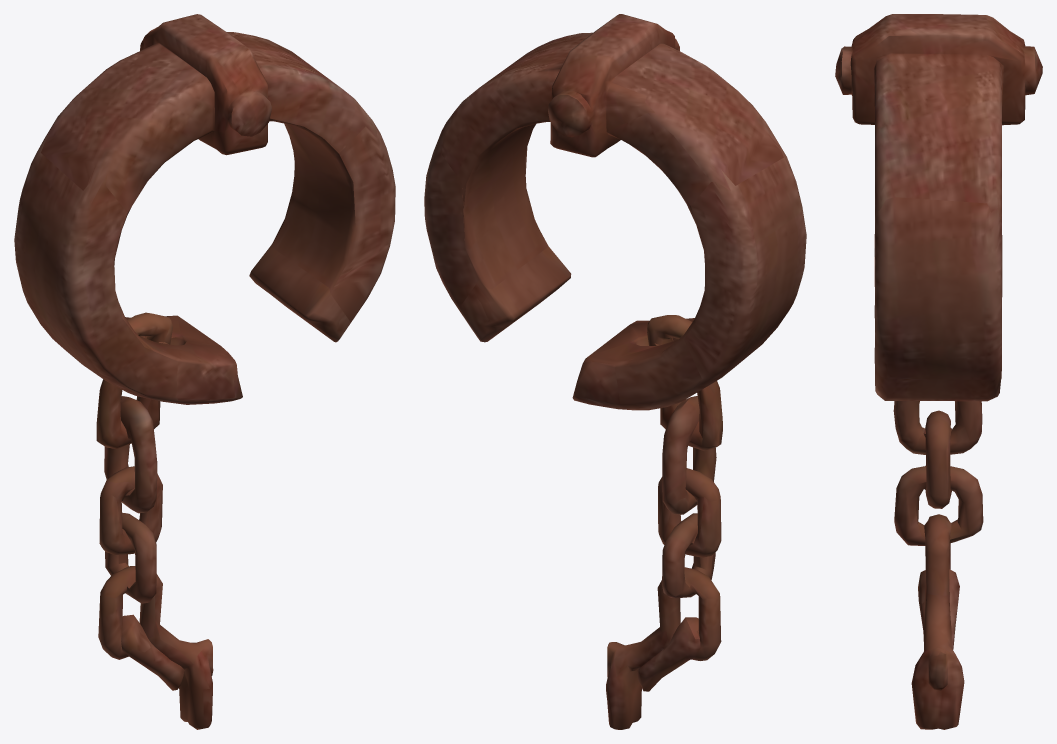
The model's file is wrist_shackles_idle.glb.
3 views of the same model, side by side, from view 1: azimuth 30°, elevation 25°; view 2: azimuth 150°, elevation 25°; view 3: azimuth 270°, elevation 25° (orthographic). The views are drawn at different scales.
Parts seen in each view (by area): view 1: item_shackle; view 2: item_shackle; view 3: item_shackle.
Boxes of the visible parts, x1=… form: item_shackle: x1=14, y1=14, x2=395, y2=729; item_shackle: x1=424, y1=14, x2=806, y2=729; item_shackle: x1=835, y1=14, x2=1042, y2=729.
Bounding box in the file's own units: 0.2783 × 0.5502 × 0.1456.
1 material, 1 textured.
